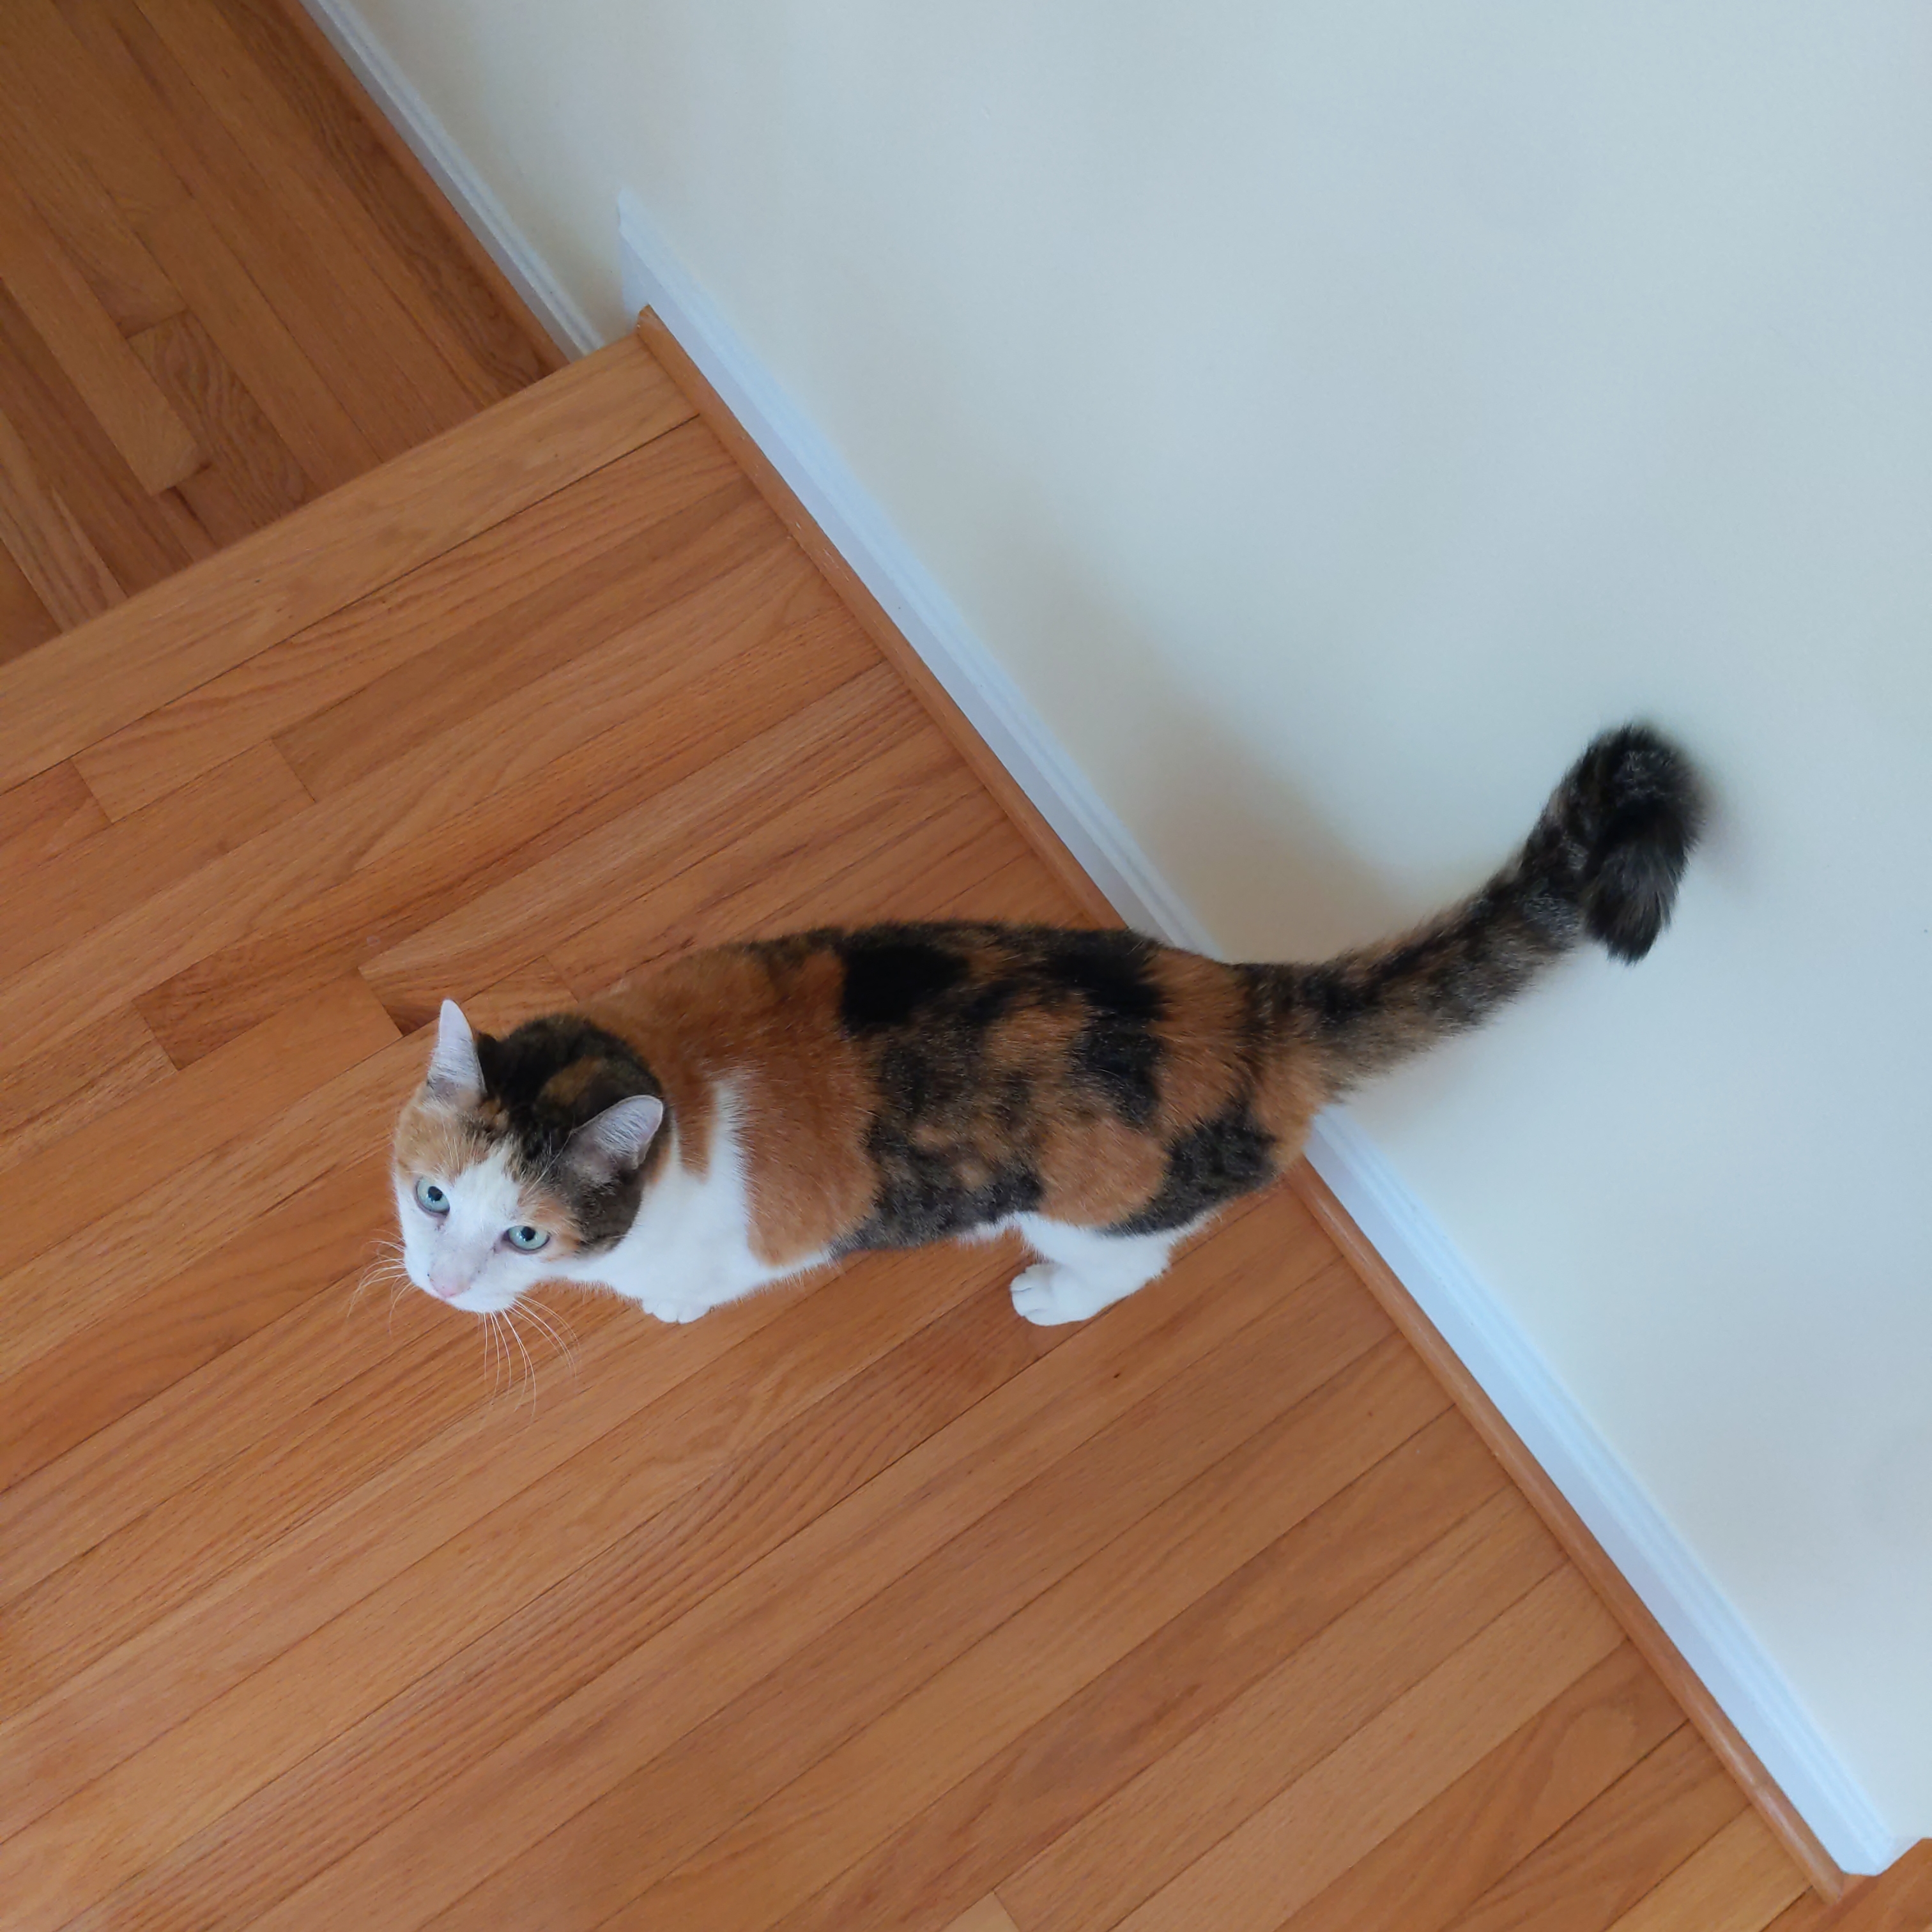Calico: (391, 727, 1706, 1329)
